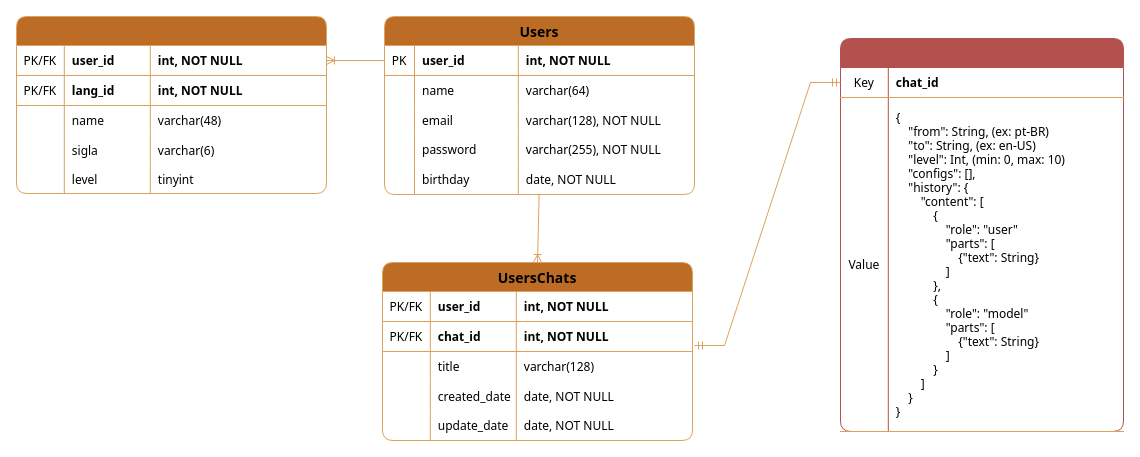
This 1140x457 diagram has some shape labels left out. Here are the shapes that lost their labels. From the top down, the box of each, then its label:
(16, 16, 326, 194): UsersLanguages
(840, 38, 1124, 432): Chats
